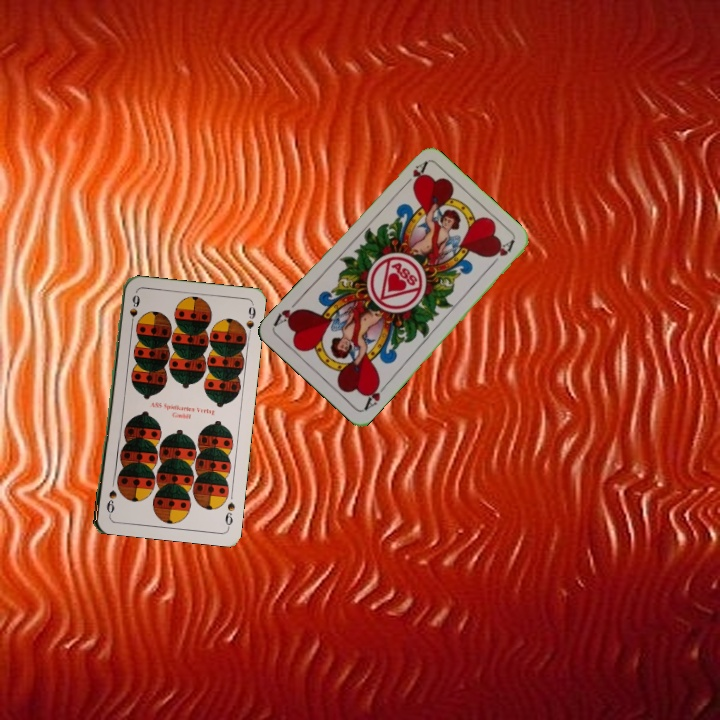HA: (360, 377, 391, 413), (397, 158, 430, 191)
S9: (126, 291, 140, 331), (221, 498, 238, 530)
